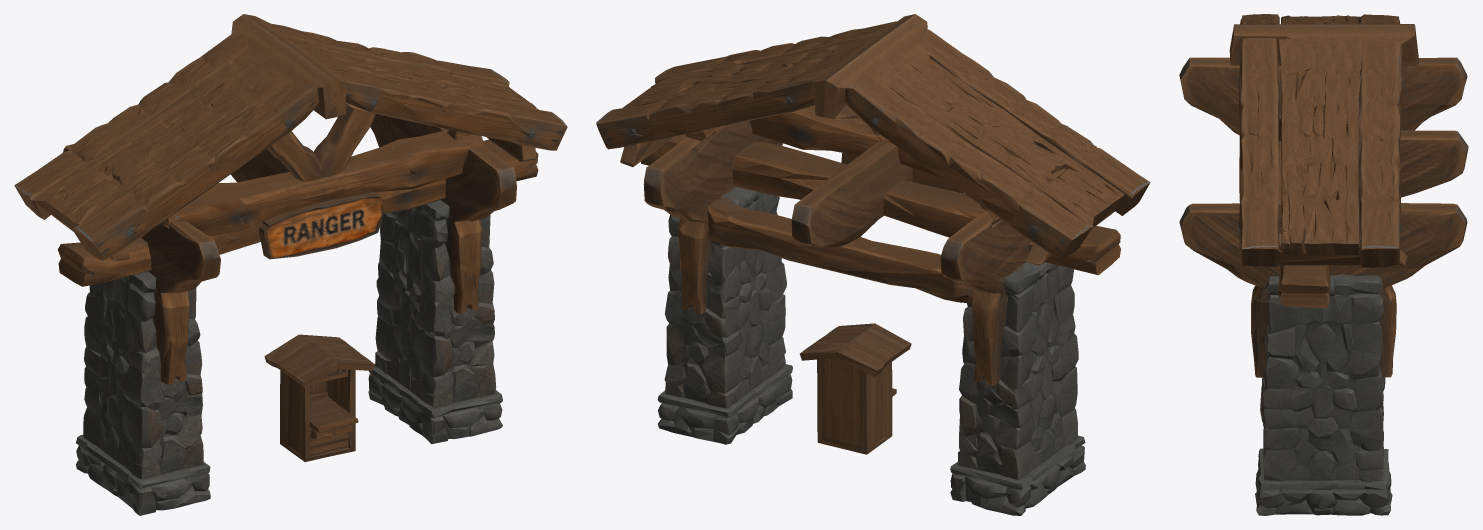
Rendered from gate.glb.
3 renders of one model, left to right at view 1: azimuth 30°, elevation 25°; view 2: azimuth 150°, elevation 25°; view 3: azimuth 270°, elevation 25°, orthographic.
Size of the model in its own units: 1.9 by 1.52 by 0.99.
Materials: 1 (1 with a texture image).
